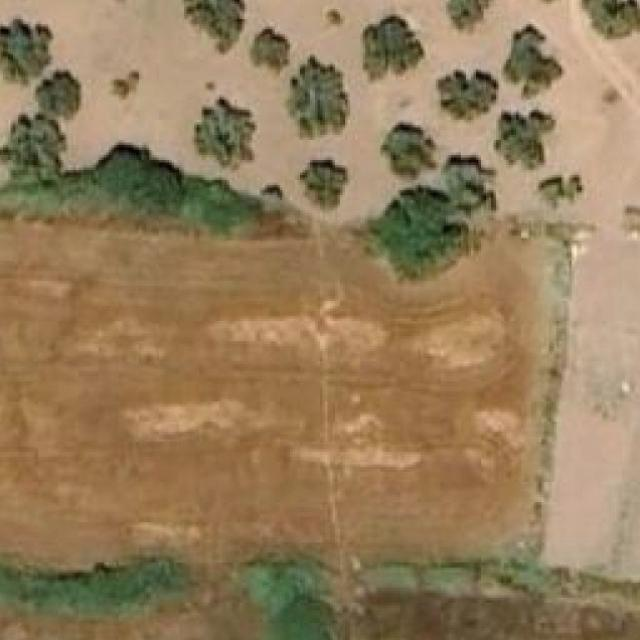Tree: (370, 188, 461, 279), (285, 57, 350, 141), (363, 7, 427, 83), (501, 24, 565, 100), (5, 108, 73, 178), (194, 98, 255, 171), (494, 110, 555, 170), (182, 0, 247, 54), (0, 19, 53, 84), (383, 125, 437, 180), (439, 69, 499, 118), (446, 150, 496, 208), (298, 160, 351, 213), (578, 0, 640, 41), (249, 26, 290, 75), (536, 175, 585, 210), (38, 72, 79, 110), (449, 0, 492, 29), (114, 70, 139, 100), (602, 86, 622, 105), (328, 9, 343, 24)
